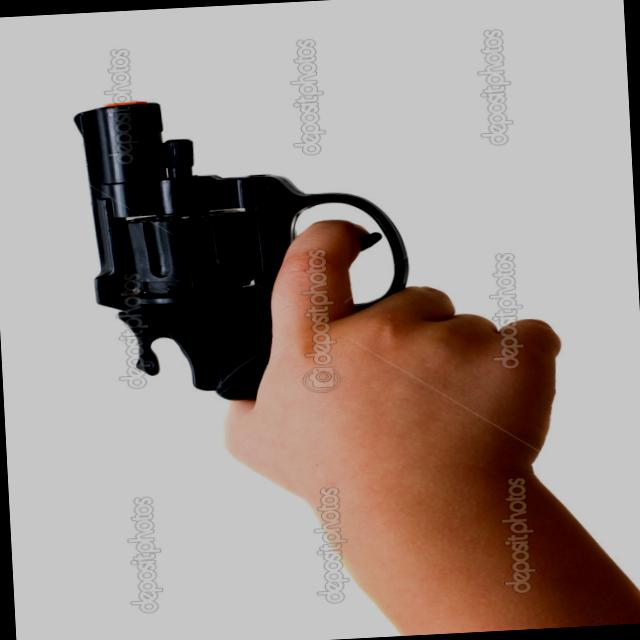handgun: (61, 71, 564, 448)
